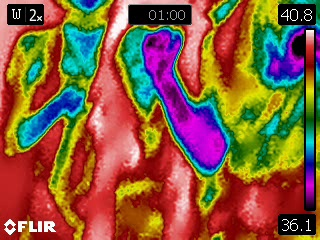human: (140, 1, 320, 238), (2, 1, 163, 239)
